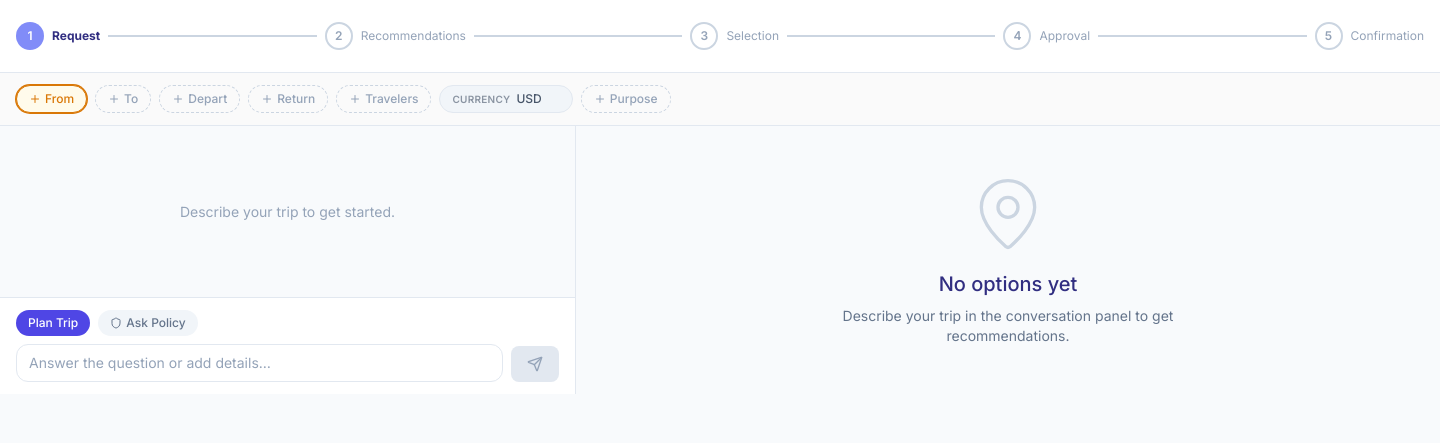
Test case: C7-07 PlannerScreen Ask Policy › renders a grounded answer
Click the button "Ask Policy" at (148, 323), box [98,310,198,336]
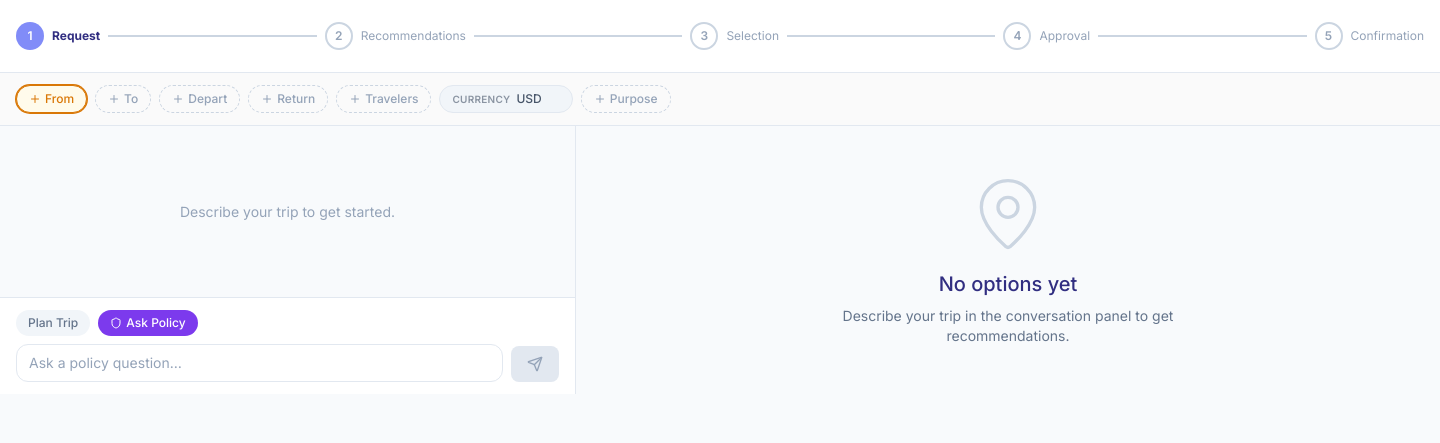
Type "What is the nightly hotel cap?" into the text box at (260, 363), box [16,344,503,382]
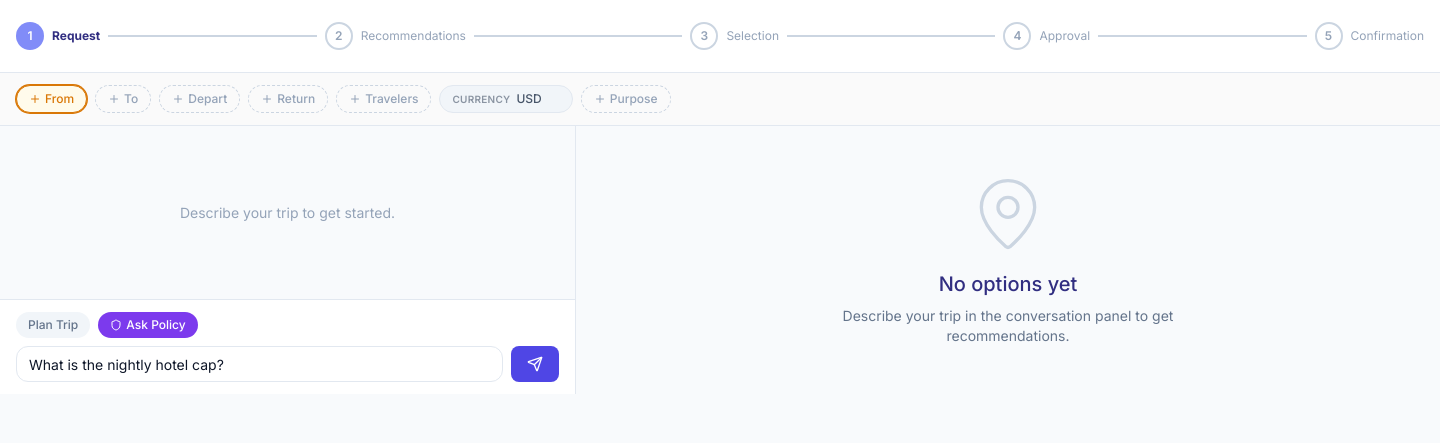
Press Enter in the text box, box [16,346,503,382]
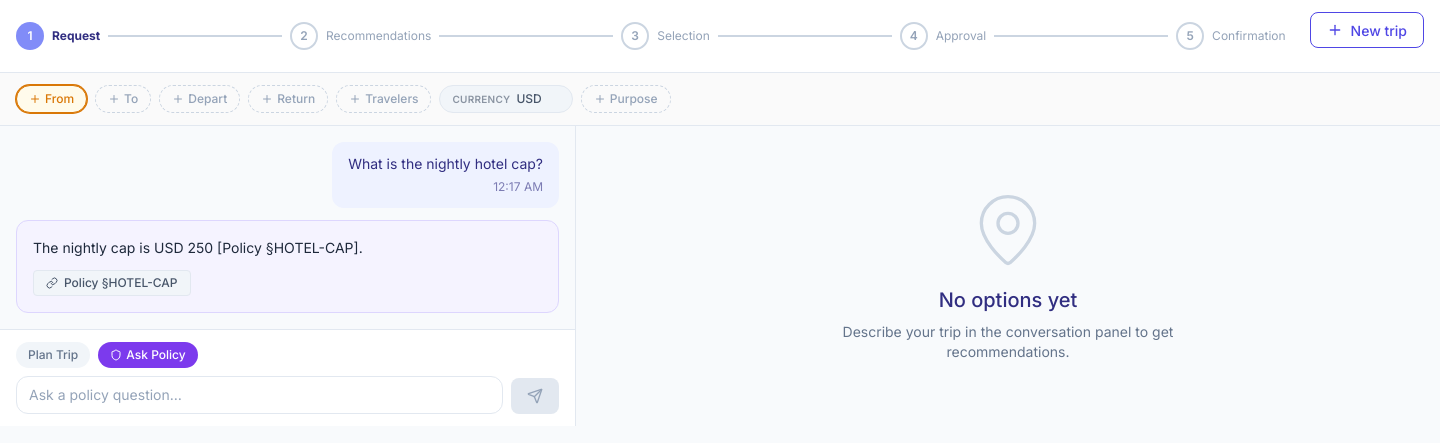
Check: the text "The nightly cap is USD 250 [Policy §HOTEL-CAP]." is shown, box [33,239,363,256]
